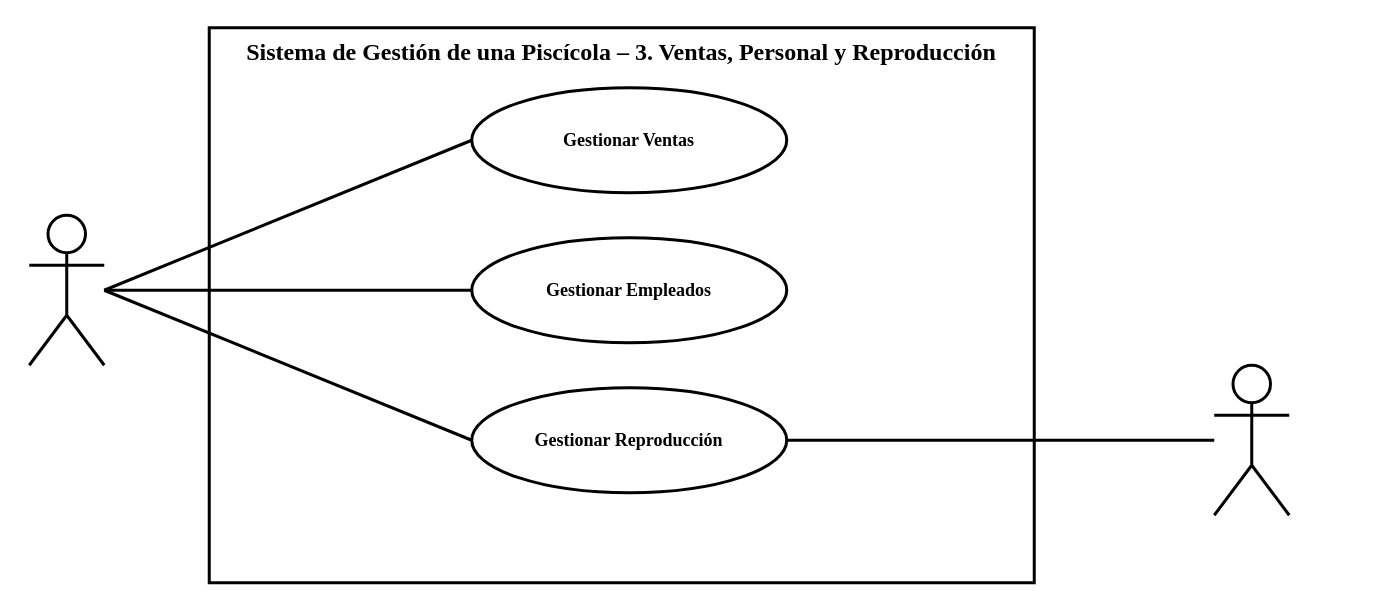
Image size: 1389x609. Some labels were removed from this diagram. Here are the shapes that lost their labels. From the top down, the centre of each, then its label:
the point at 66,289: Piscicultor
the point at 1251,439: Encargado de la Estación
